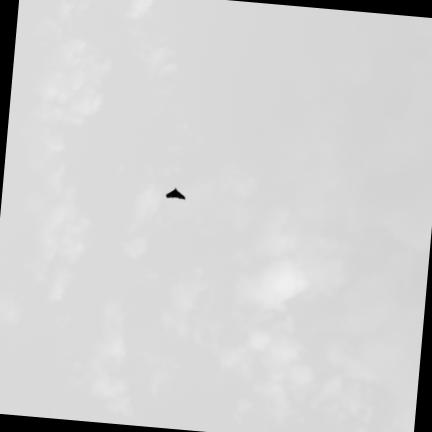Shahed: (166, 189, 184, 199)
